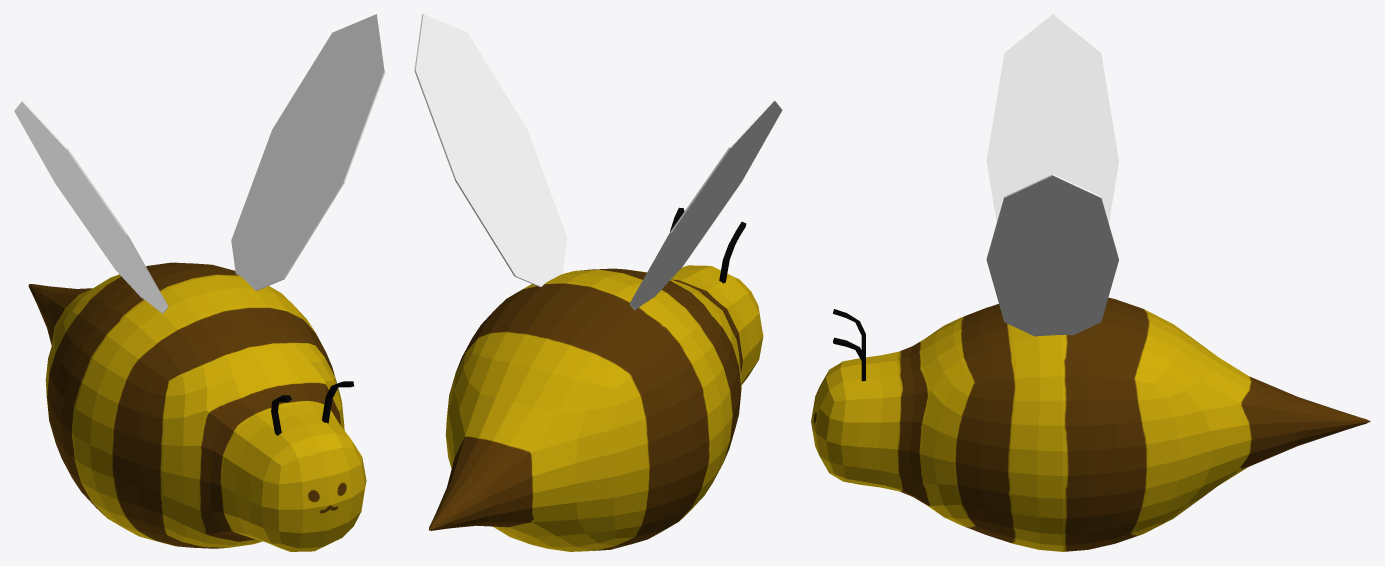
Rendered from abejafix3.fbx.
3 views of the same model, side by side, from view 1: azimuth 30°, elevation 25°; view 2: azimuth 150°, elevation 25°; view 3: azimuth 270°, elevation 25° (orthographic). The views are drawn at different scales.
Parts seen in each view (by area): view 1: Cube.003, Plane.002, Plane.003; view 2: Cube.003, Plane.002, Plane.003, Cube.005; view 3: Cube.003, Plane.003, Plane.002.
Boxes of the visible parts, left/top/right/bottom form: Cube.003: left=28, top=262, right=366, bottom=551; Plane.002: left=231, top=14, right=385, bottom=290; Plane.003: left=14, top=100, right=168, bottom=313; Cube.003: left=429, top=265, right=763, bottom=551; Plane.002: left=414, top=14, right=567, bottom=286; Plane.003: left=629, top=99, right=782, bottom=310; Cube.005: left=719, top=221, right=746, bottom=283; Cube.003: left=811, top=297, right=1370, bottom=551; Plane.003: left=986, top=14, right=1118, bottom=222; Plane.002: left=986, top=174, right=1118, bottom=336.
Bounding box in the file's own units: 237 × 304 × 348.
